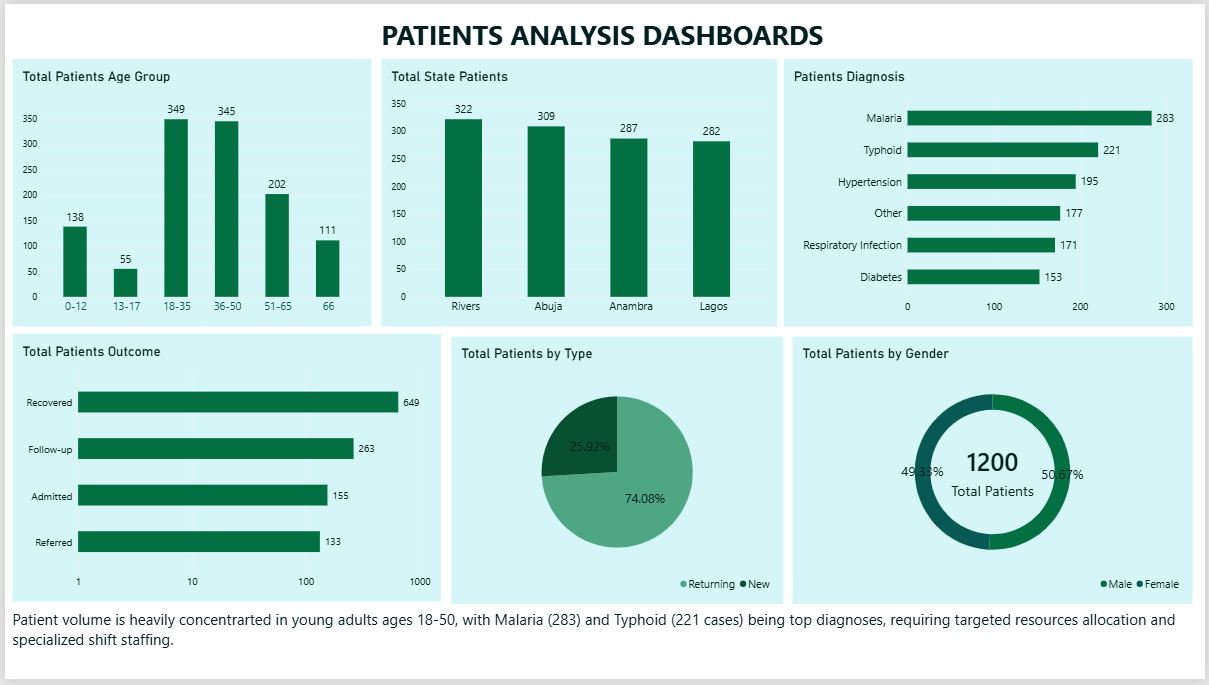

This screenshot's page, from the dashboard's own definition file:
{"tool":"powerbi","page":{"name":"Patient Analysis","canvas":[1920,1080],"ordinal":1},"visuals":[{"type":"clusteredColumnChart","title":"Total Patients Age Group ","fields":{"Category":["Patient_Visits.Age_Group"],"Y":["State_Targets.Total Patients"]},"box":[12.5,82.5,575,457.5],"z":0},{"type":"pieChart","title":"Total Patients by Type","fields":{"Category":["Patient_Visits.Patient_Type"],"Y":["State_Targets.Total Patients"]},"box":[715,552.5,530,425],"z":1000},{"type":"donutChart","title":"Total Patients by Gender","fields":{"Category":["Patient_Visits.Gender"],"Y":["State_Targets.Total Patients"]},"box":[602.5,82.5,597.5,457.5],"z":2000},{"type":"clusteredBarChart","title":" Patients Diagnosis","fields":{"Category":["Patient_Visits.Diagnosis"],"Y":["State_Targets.Total Patients"]},"box":[1215,82.5,685,457.5],"z":3000},{"type":"clusteredColumnChart","title":"Total State Patients ","fields":{"Category":["State_Targets.State"],"Y":["State_Targets.Total Patients"]},"box":[1265,552.5,635,425],"z":4000},{"type":"clusteredBarChart","title":"Total Patients Outcome ","fields":{"Category":["Patient_Visits.Outcome"],"Y":["State_Targets.Total Patients"]},"box":[12.5,552.5,685,425],"z":5000},{"type":"textbox","box":[12.3,0,1887.5,98.8],"z":6000},{"type":"textbox","box":[12.5,977.5,1887.5,102.5],"z":7000}]}

Visuals, with their boxes in screenshot pixels (x1, y1, x2, y2), scaled from the page's 1920x1080 canvas onto the 1209x685 screenshot:
"Total Patients Age Group " clusteredColumnChart: 8,52,370,342
"Total Patients by Type" pieChart: 450,350,784,620
"Total Patients by Gender" donutChart: 379,52,756,342
" Patients Diagnosis" clusteredBarChart: 765,52,1196,342
"Total State Patients " clusteredColumnChart: 797,350,1196,620
"Total Patients Outcome " clusteredBarChart: 8,350,439,620
textbox: 8,0,1196,63
textbox: 8,620,1196,684
